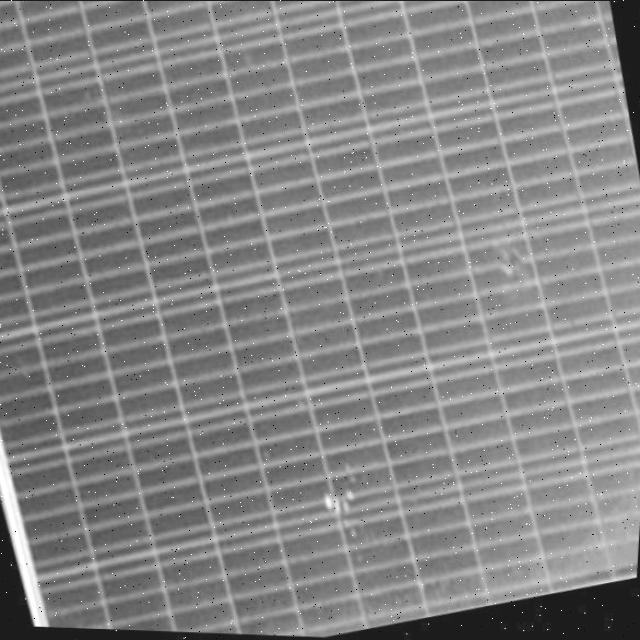Surface Contaminant: (90, 414, 640, 639)
